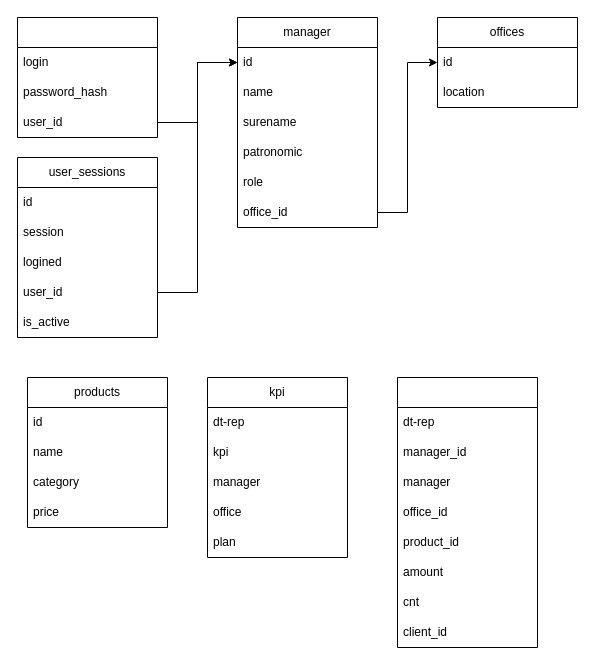
Some shapes in this 595 by 665 pixel diagram are drawn without their labels. The box of each missing label's shape, as (x1, y1, x2, y2) in pixels:
sales: (396, 376, 538, 648)
user_auth: (16, 16, 158, 138)
